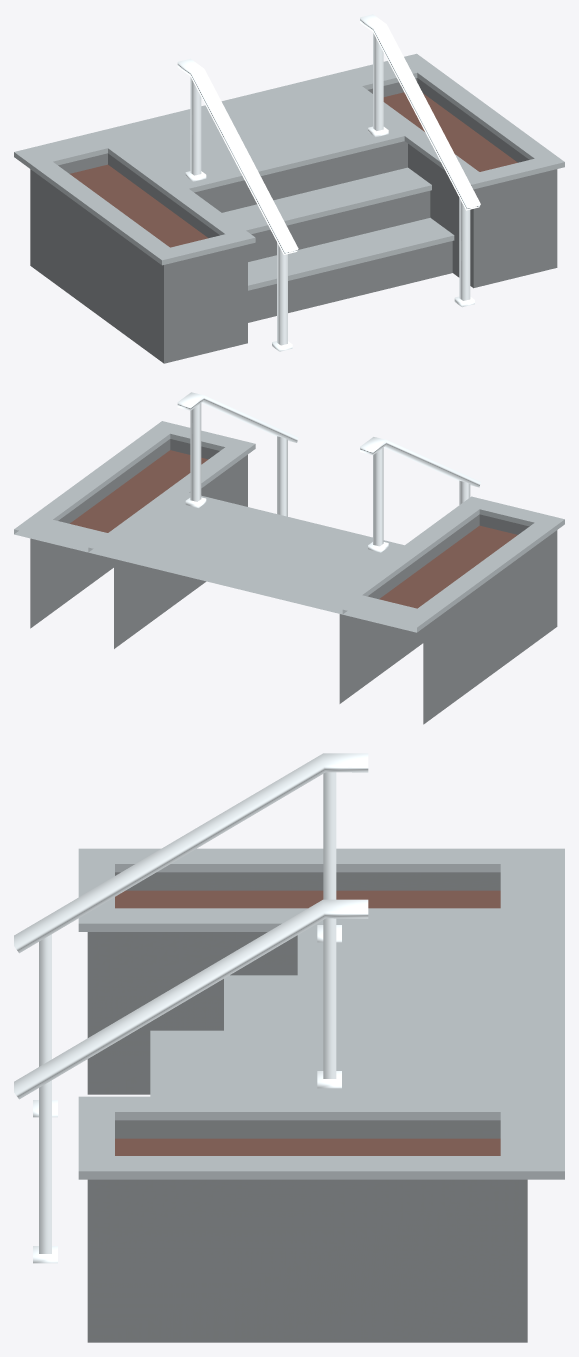
The model's file is Stairs_02.glb.
3 renders of one model, top to bottom at view 1: azimuth 30°, elevation 25°; view 2: azimuth 150°, elevation 25°; view 3: azimuth 270°, elevation 25°, orthographic. The views are drawn at different scales.
Visible parts, largest first — view 1: Stairs_02; view 2: Stairs_02; view 3: Stairs_02.
Boxes of the visible parts, box(x1,y1,x2,y2) form: Stairs_02: box(14, 14, 564, 363); Stairs_02: box(14, 392, 564, 724); Stairs_02: box(14, 753, 564, 1342).
Size of the model in its own units: 4.15 by 2.12 by 3.
Materials: 1 (1 with a texture image).
